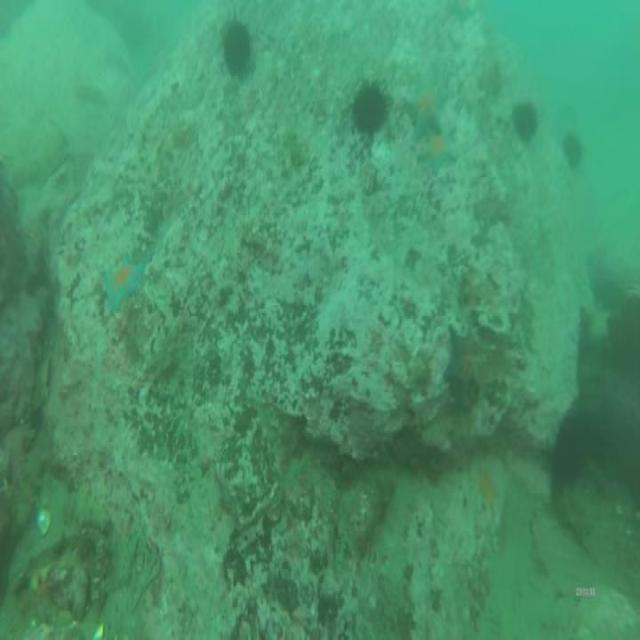echinus: (552, 409, 591, 482), (222, 21, 251, 79), (354, 81, 386, 131), (512, 100, 536, 138), (564, 133, 582, 166)
holothurian: (65, 490, 112, 534)
starfish: (103, 258, 146, 308), (407, 82, 445, 136), (446, 332, 478, 390), (420, 130, 460, 164)
